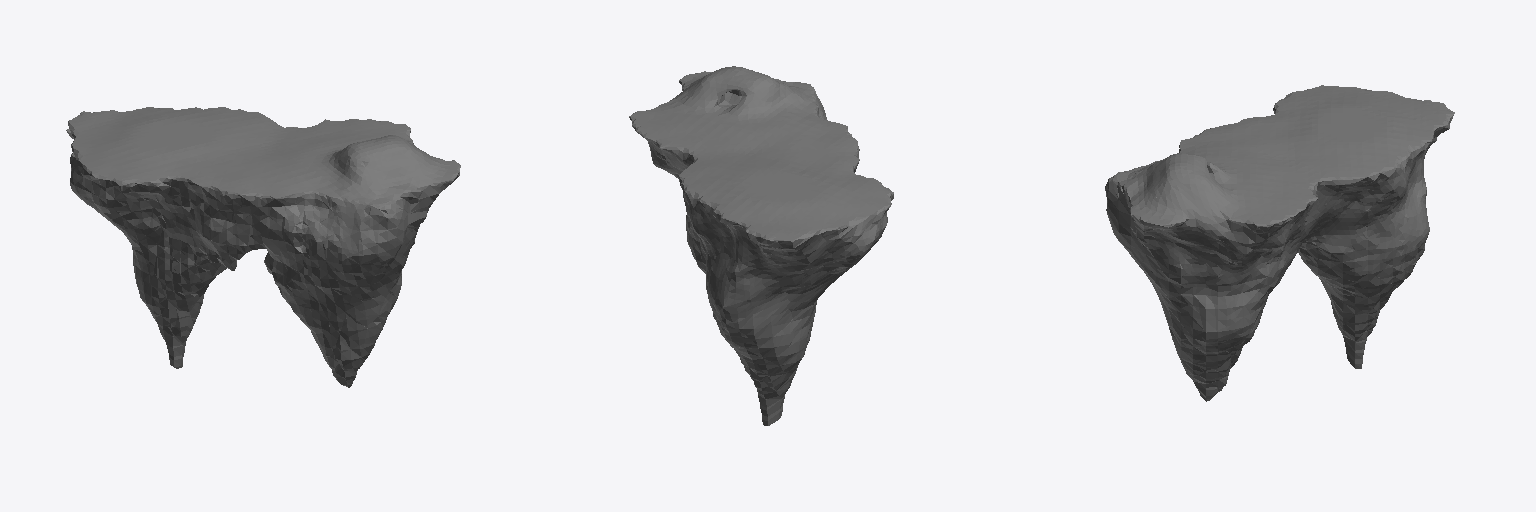
File: IslandTunnel.obj
3 renders of one model, left to right at view 1: azimuth 30°, elevation 25°; view 2: azimuth 150°, elevation 25°; view 3: azimuth 270°, elevation 25°, orthographic.
Parts seen in each view (by area): view 1: Mesh; view 2: Mesh; view 3: Mesh.
Boxes of the visible parts, x1,y1,x2,y2 form: Mesh: [66, 107, 460, 387]; Mesh: [629, 66, 893, 425]; Mesh: [1105, 85, 1454, 401].
Bounding box in the file's own units: 26.73 × 23.11 × 28.09.